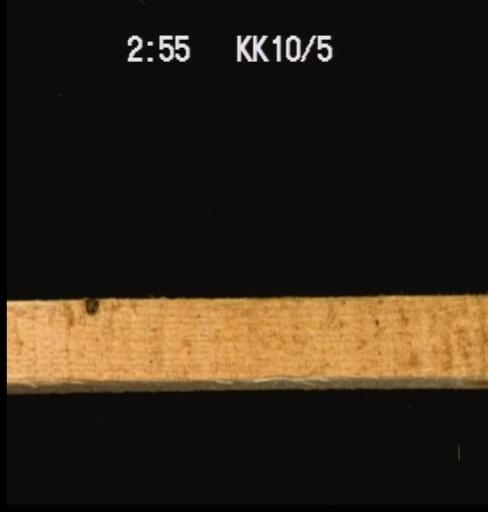edge_knot: (82, 297, 98, 315)
